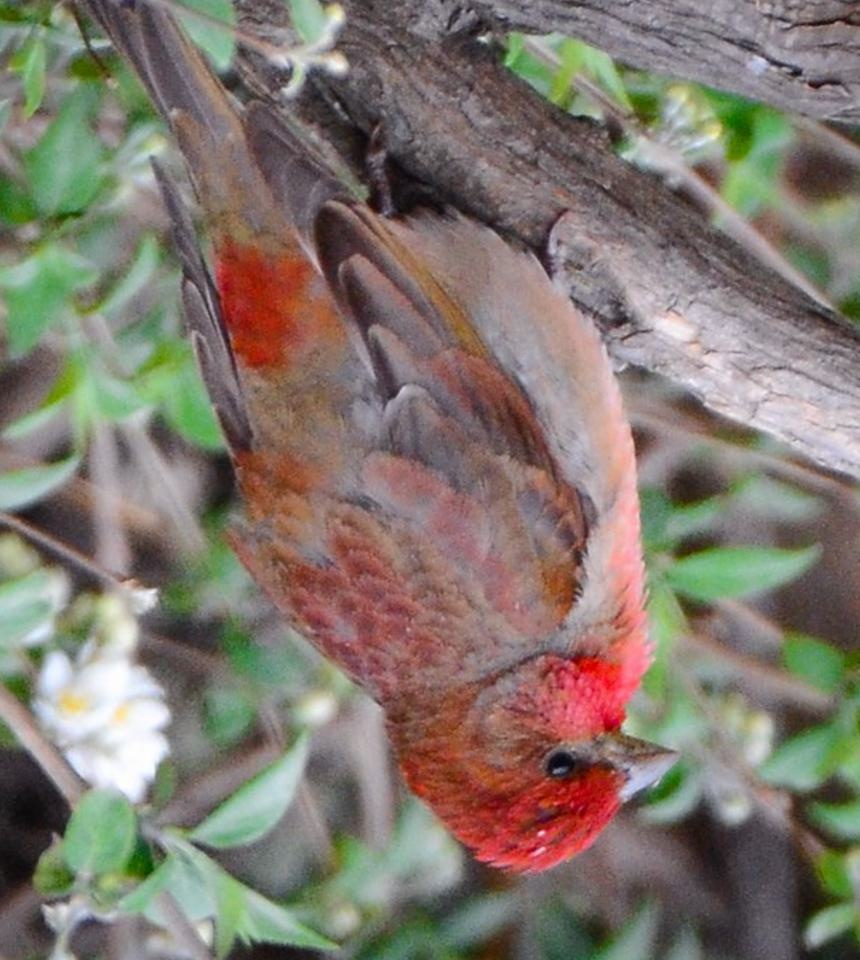rosefinch: (214, 68, 673, 884)
